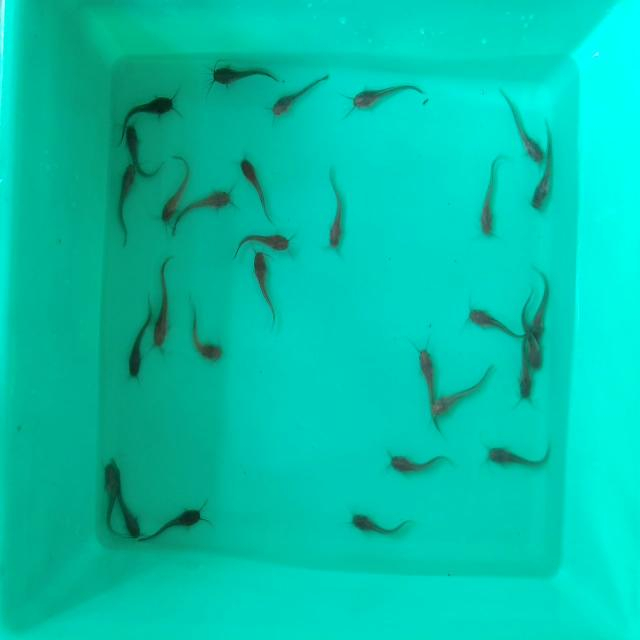lele: (497, 84, 544, 170), (474, 152, 507, 243), (269, 76, 329, 121), (190, 298, 228, 369), (248, 251, 282, 328), (151, 256, 178, 350), (431, 378, 492, 419), (350, 79, 425, 112), (182, 184, 235, 230), (208, 56, 280, 89), (118, 455, 144, 541), (486, 441, 557, 470), (147, 505, 204, 541), (384, 448, 457, 476), (327, 172, 353, 250), (348, 510, 413, 540), (126, 306, 152, 381), (116, 94, 176, 126), (236, 155, 270, 211), (160, 154, 188, 222), (531, 257, 556, 333), (114, 164, 138, 240), (127, 120, 158, 175), (464, 310, 522, 338), (533, 150, 558, 212), (414, 343, 436, 413), (231, 232, 295, 256), (101, 459, 118, 536), (518, 352, 535, 407), (525, 327, 546, 368)
